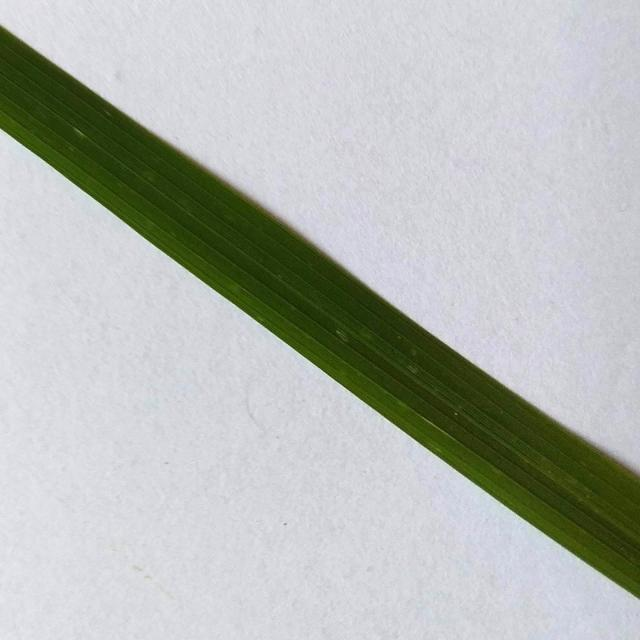healthy: (0, 8, 640, 600)
